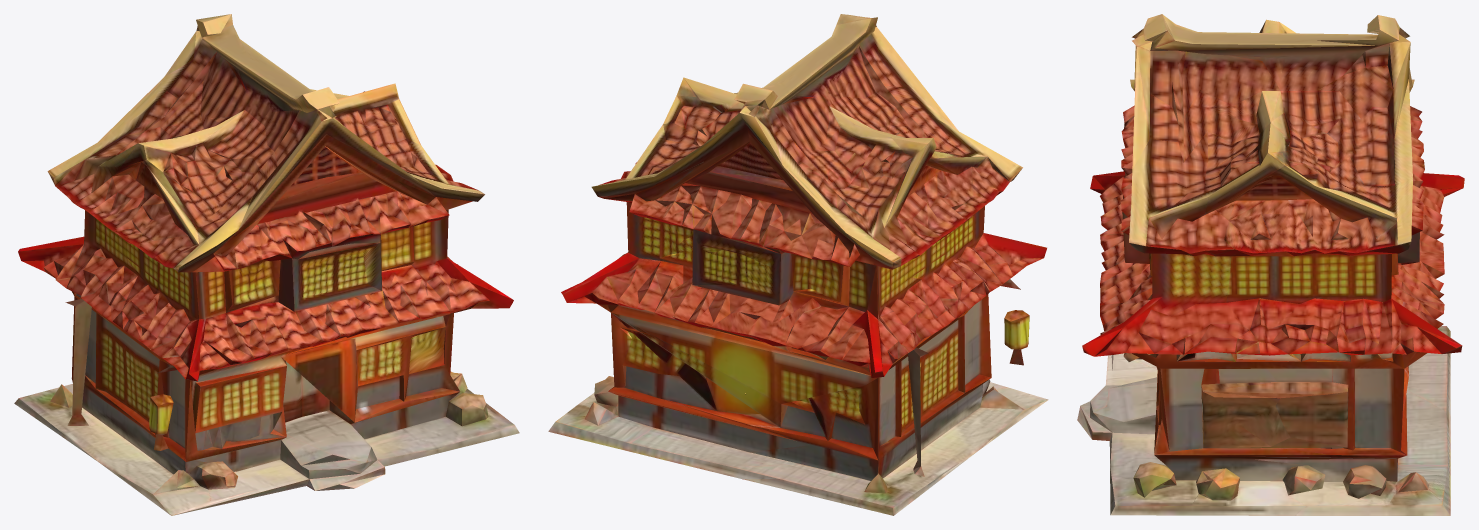
File: machiya.glb
3 views of the same model, side by side, from view 1: azimuth 30°, elevation 25°; view 2: azimuth 150°, elevation 25°; view 3: azimuth 270°, elevation 25° (orthographic). The views are drawn at different scales.
Bounding box in the file's own units: 1.84 × 1.85 × 1.63.
Materials: 1 (1 with a texture image).
